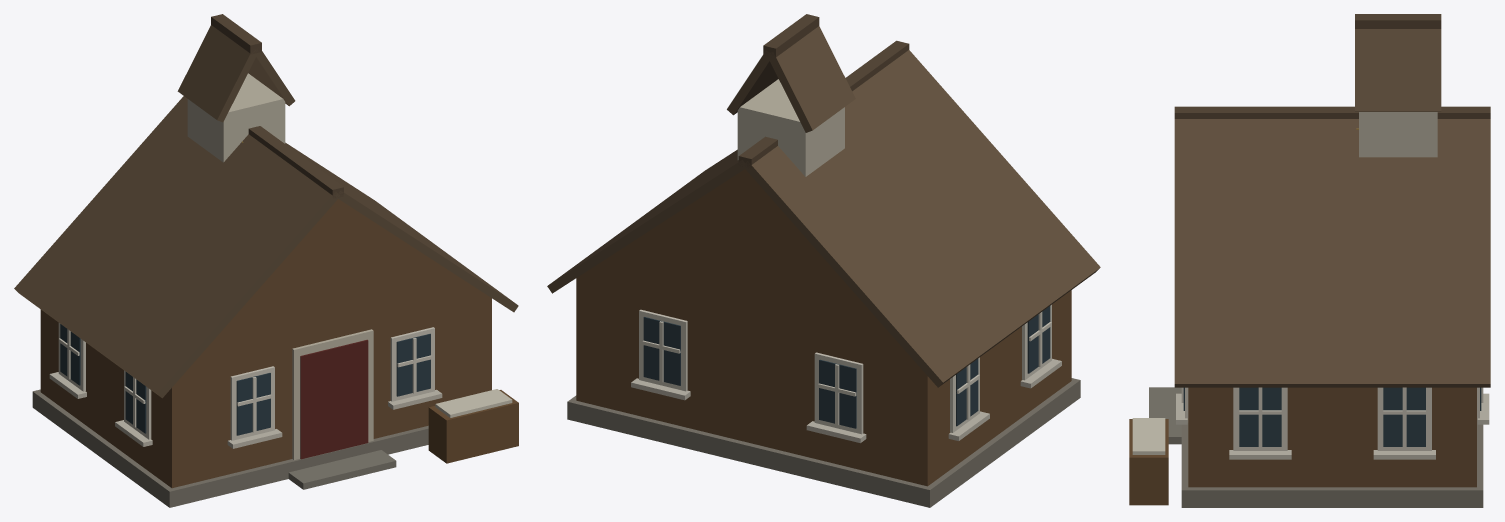
Rendered from procedural_study@3.glb.
3 views of the same model, side by side, from view 1: azimuth 30°, elevation 25°; view 2: azimuth 150°, elevation 25°; view 3: azimuth 270°, elevation 25° (orthographic). The views are drawn at different scales.
Parts seen in each view (by area): view 1: part_0; view 2: part_0; view 3: part_0.
Part boxes in pixels (x1,y1,x2,y2): part_0: (14, 14, 518, 507); part_0: (547, 14, 1100, 507); part_0: (1129, 14, 1490, 507).
Bounding box in the file's own units: 6.99 × 6.77 × 5.51.
